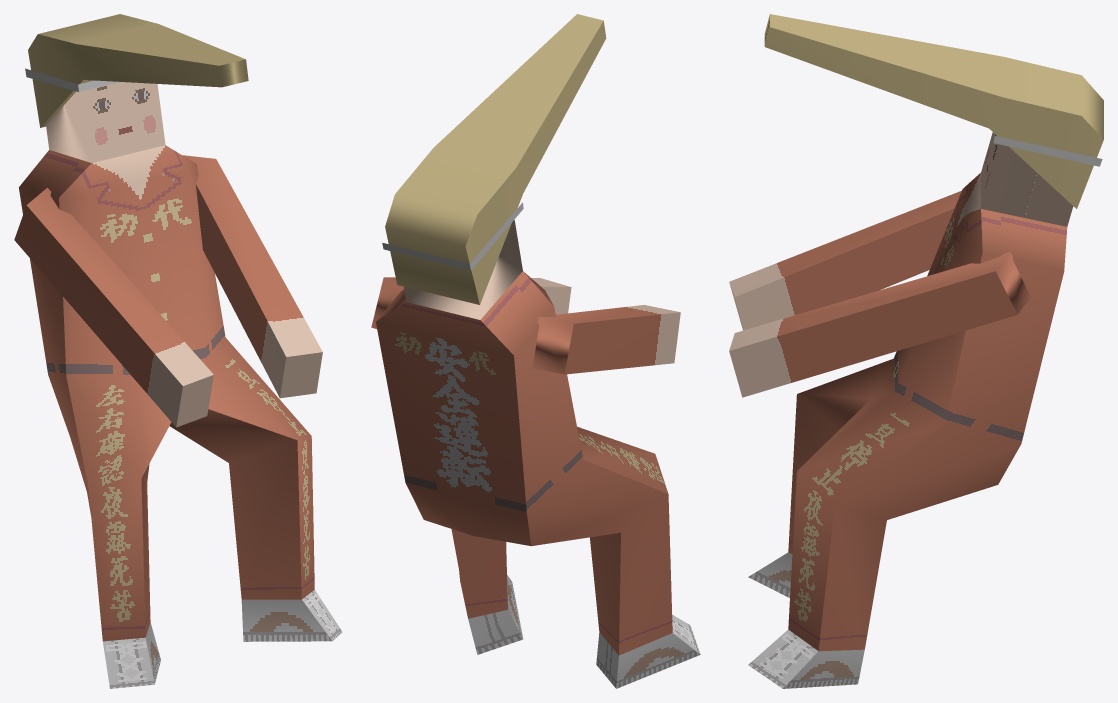
Rendered from 0240_Punk.glb.
3 views of the same model, side by side, from view 1: azimuth 30°, elevation 25°; view 2: azimuth 150°, elevation 25°; view 3: azimuth 270°, elevation 25° (orthographic).
Visible parts, largest first — view 1: part_0; view 2: part_0; view 3: part_0.
Part boxes in pixels (box(x1,y1,x2,y2)): part_0: box(14, 14, 342, 688); part_0: box(371, 14, 700, 688); part_0: box(729, 14, 1103, 688).
Bounding box in the file's own units: 0.6006 × 1.53 × 0.8265.
Materials: 1 (1 with a texture image).
